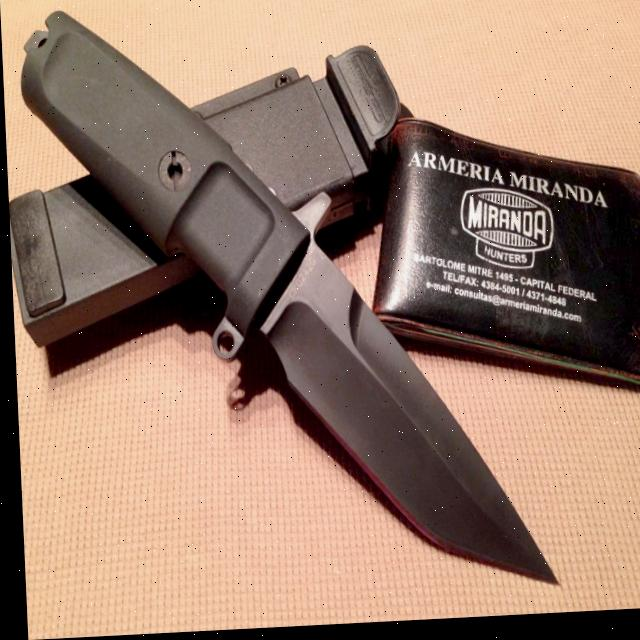knife: (1, 4, 555, 614)
